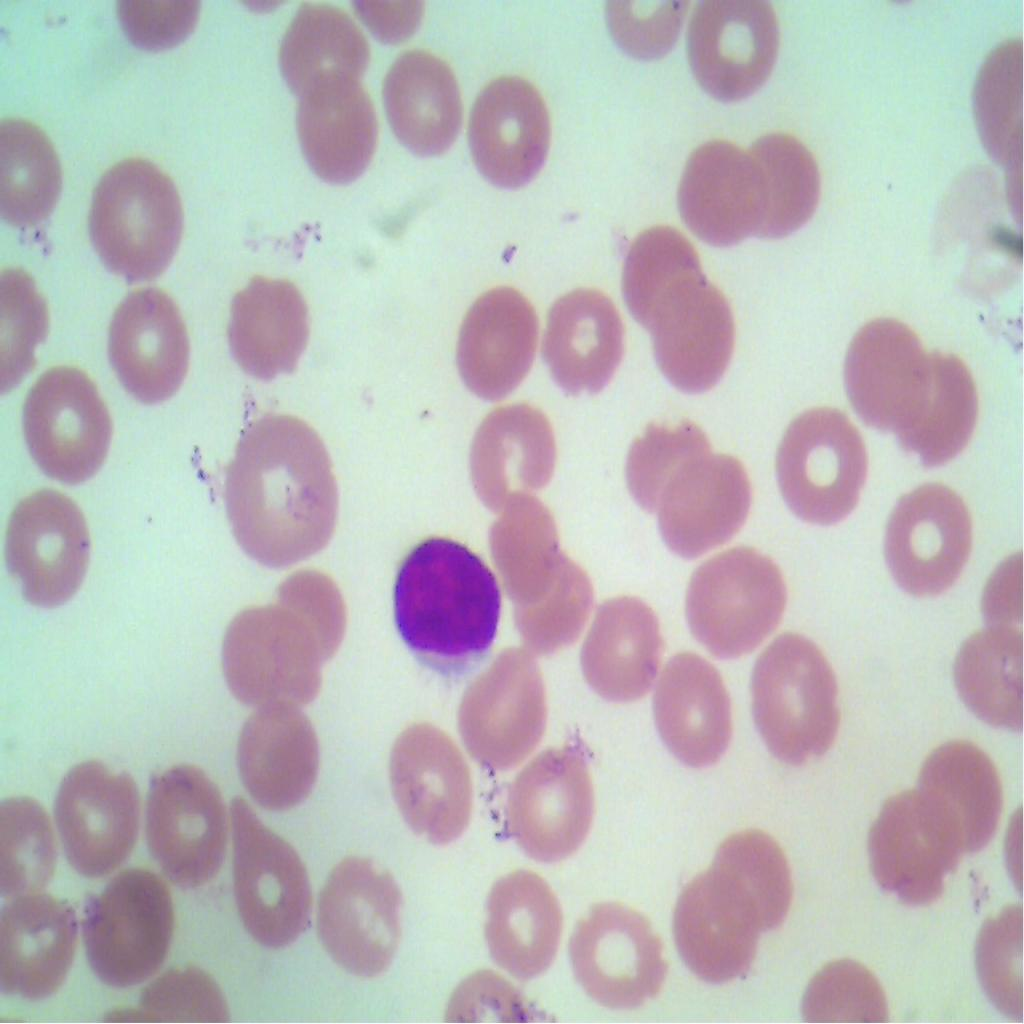Eritrosit: (223, 408, 348, 566), (84, 155, 194, 290), (224, 798, 315, 953), (382, 718, 478, 862), (748, 625, 844, 765), (883, 475, 982, 610), (682, 538, 788, 660), (104, 278, 202, 408), (569, 897, 670, 1022), (504, 735, 598, 867), (84, 868, 178, 998), (23, 367, 122, 488), (218, 607, 320, 724), (313, 858, 409, 981), (1, 485, 96, 608), (462, 649, 555, 772), (461, 64, 551, 191), (646, 275, 741, 395), (679, 0, 778, 114), (874, 788, 968, 908), (138, 765, 229, 888), (773, 410, 871, 524), (474, 859, 564, 981), (218, 266, 314, 380), (454, 278, 538, 406), (50, 749, 140, 868), (646, 654, 740, 767), (656, 458, 758, 562), (916, 727, 1004, 847), (232, 702, 326, 814), (295, 75, 381, 195), (0, 884, 79, 1008), (741, 130, 830, 239), (466, 401, 559, 505), (542, 285, 624, 402), (675, 141, 768, 244), (277, 0, 371, 101), (670, 870, 756, 980), (578, 589, 659, 705), (616, 216, 698, 330), (381, 50, 464, 159), (708, 826, 794, 928), (622, 415, 710, 512), (954, 615, 1023, 734), (513, 555, 590, 657), (0, 114, 64, 232), (490, 485, 558, 589), (266, 574, 348, 657)
Limfosit: (389, 531, 511, 682)
